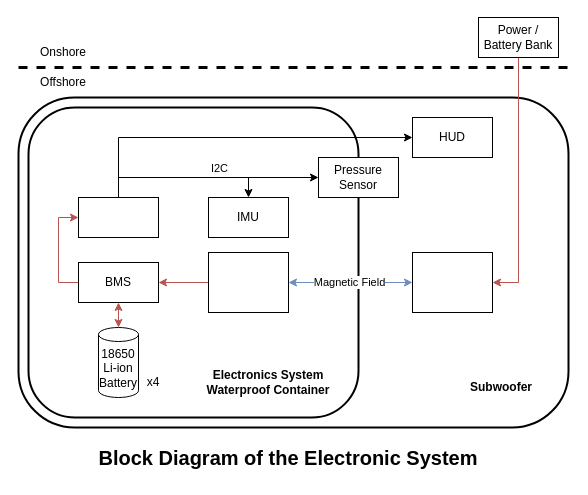
Image size: 588x495. Some labels were removed from this diagram. The centre of each missing label's shape, as x and y in pixels:
Arduino: [118,217]
Inductive Charging Receiver: [248,282]
Inductive Charging Transmitter: [452,282]
